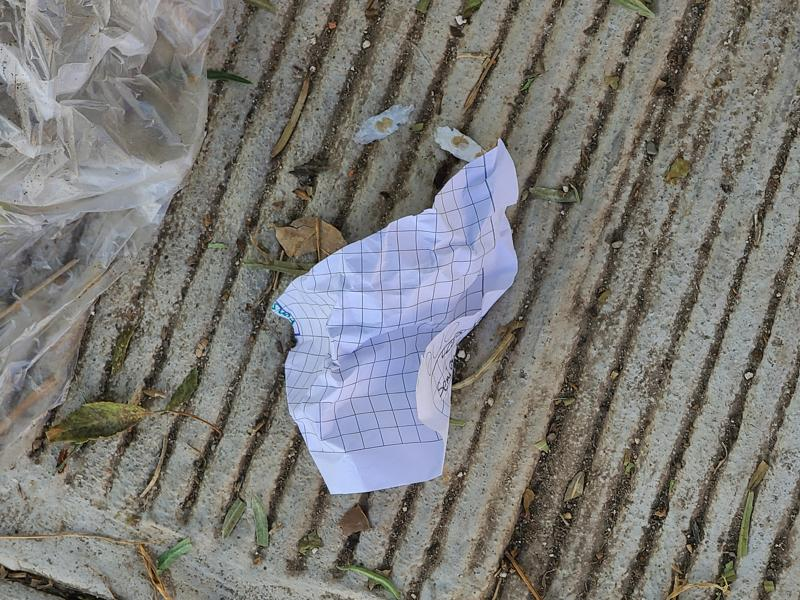papel: (274, 142, 520, 497)
